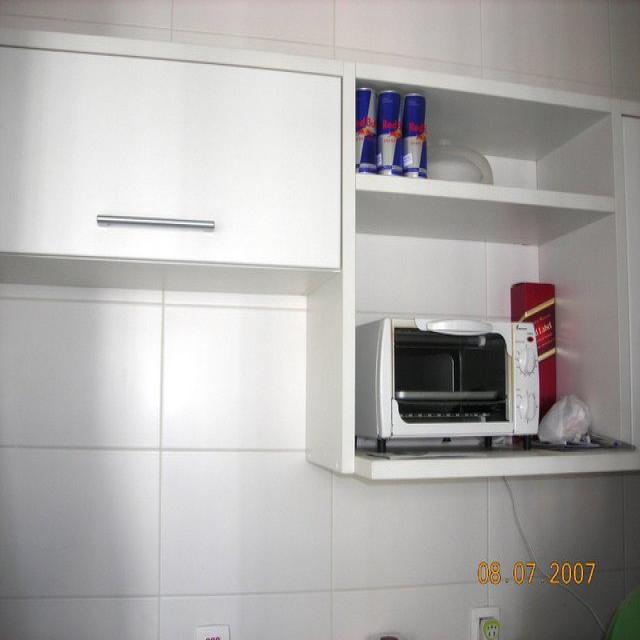Microwave oven: (355, 317, 539, 453)
Wire: (500, 477, 611, 639)
cabinet door: (1, 45, 341, 269)
energy drinks: (356, 85, 429, 177)
handle bar: (89, 204, 222, 240)
outlet: (464, 599, 507, 637)
red box whiskey: (510, 283, 556, 443)
shelves crop: (352, 75, 633, 461)
tile wall: (155, 447, 332, 599)
